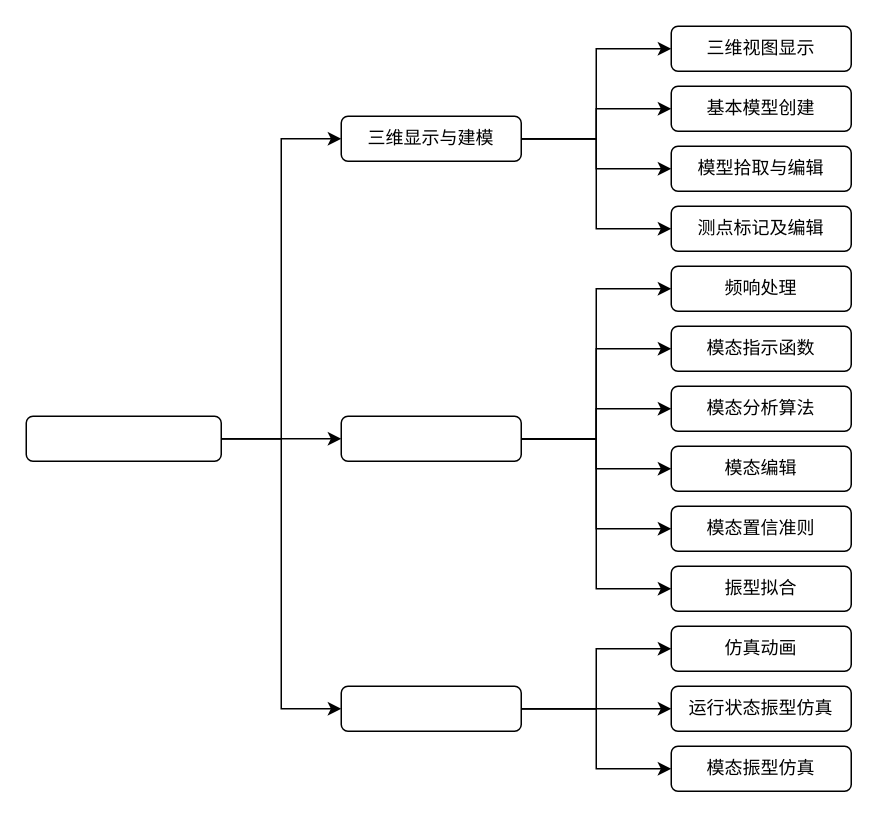
Some shapes in this 878 by 818 pixel diagram are drawn without their labels. Here are the shapes that lost their labels. From the top down, the centre of each, then its label:
pixel 123 438: 模态分析软件
pixel 430 438: 模态分析
pixel 430 708: 振动仿真
